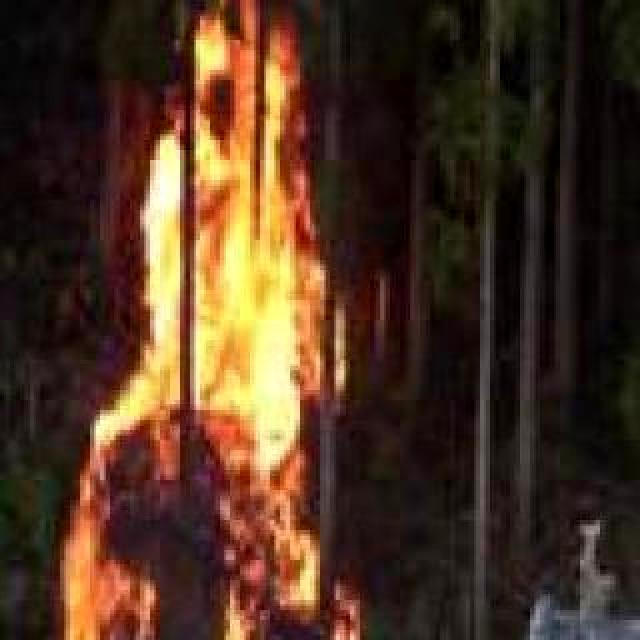fire: (22, 0, 350, 640)
